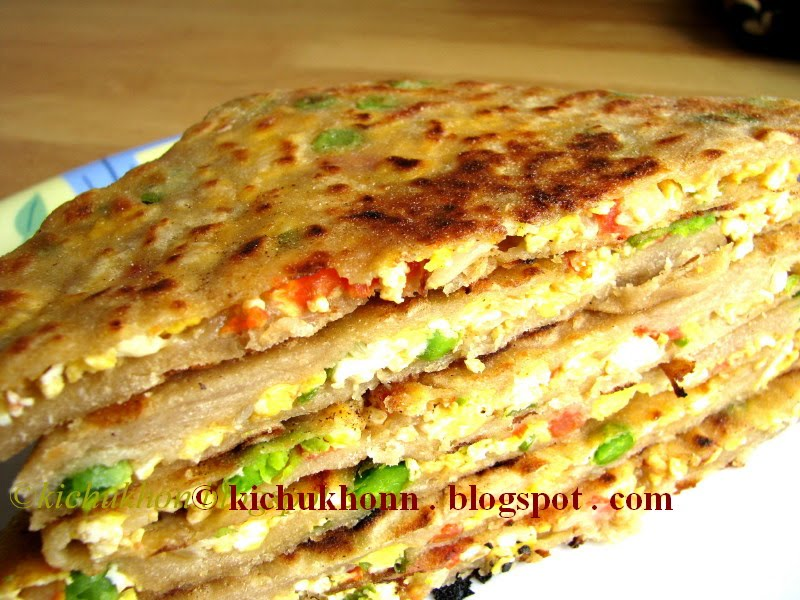aloo_paratha: (1, 82, 798, 599)
